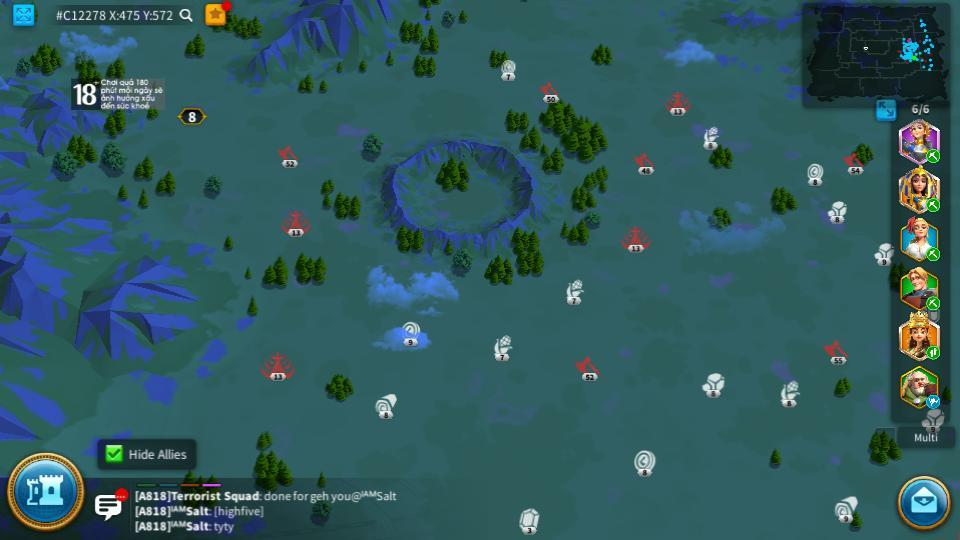gem-z-out: (516, 507, 541, 533)
march_idle: (925, 395, 942, 407)
march_marching: (925, 197, 941, 212), (926, 345, 941, 359), (925, 150, 942, 162), (925, 250, 941, 261), (926, 297, 941, 308)
